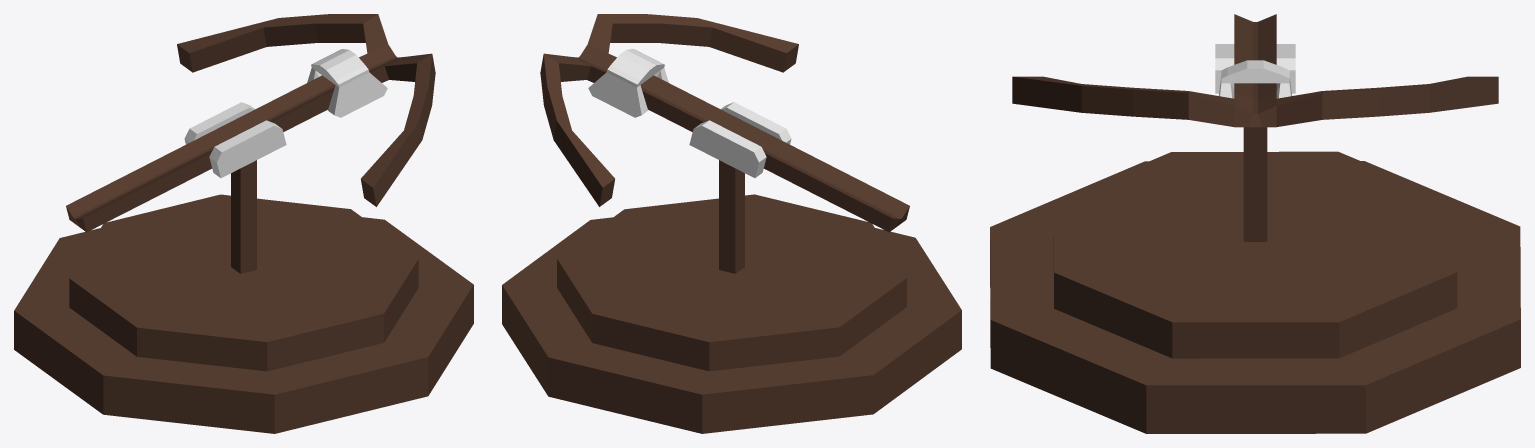
Rendered from Ballista.fbx.
The picture shows the model from 3 angles, left to right: view 1: azimuth 30°, elevation 25°; view 2: azimuth 150°, elevation 25°; view 3: azimuth 270°, elevation 25°; orthographic projection. The views are drawn at different scales.
Parts seen in each view (by area): view 1: Ballista Bottom, Ballista Barrel; view 2: Ballista Bottom, Ballista Barrel; view 3: Ballista Bottom, Ballista Barrel.
Boxes of the visible parts, x1,y1,x2,y2 form: Ballista Bottom: (14,160,473,433); Ballista Barrel: (66,14,435,232); Ballista Bottom: (502,160,961,433); Ballista Barrel: (540,14,909,232); Ballista Bottom: (990,127,1520,433); Ballista Barrel: (1012,14,1498,127).
Bounding box in the file's own units: 158 × 107 × 158.
